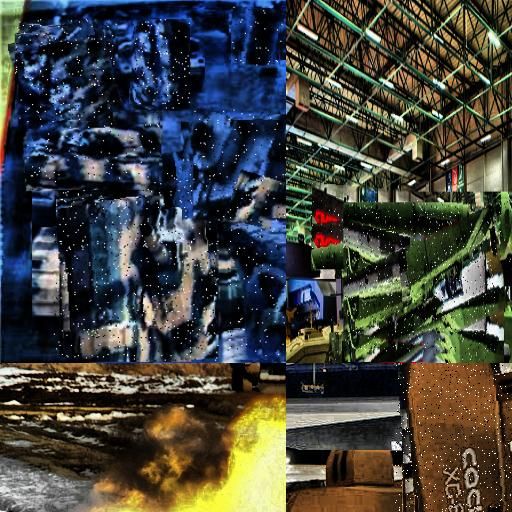tanks: (55, 160, 220, 362), (345, 204, 498, 352), (399, 364, 512, 512), (312, 202, 512, 270), (16, 20, 117, 122), (195, 110, 286, 222), (28, 114, 160, 191), (229, 216, 287, 362), (136, 20, 191, 110), (461, 241, 487, 362), (232, 8, 284, 67), (331, 334, 340, 363)
